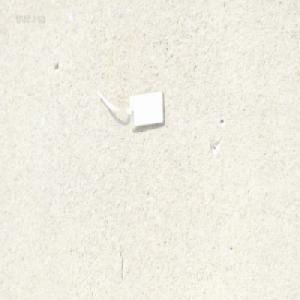LuggageTag: (94, 73, 165, 131)
